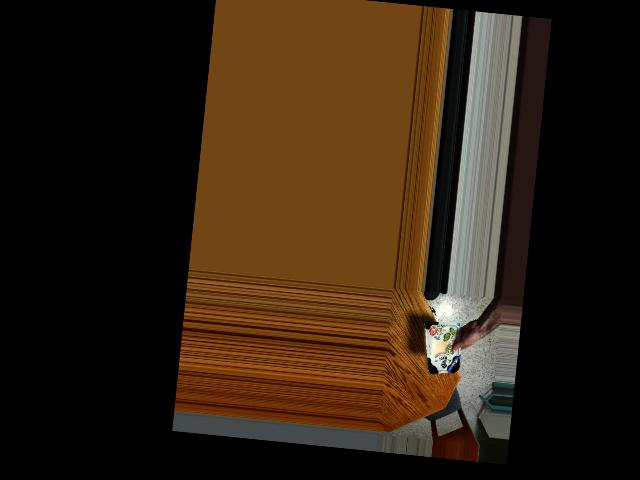cheese: (420, 319, 470, 376)
